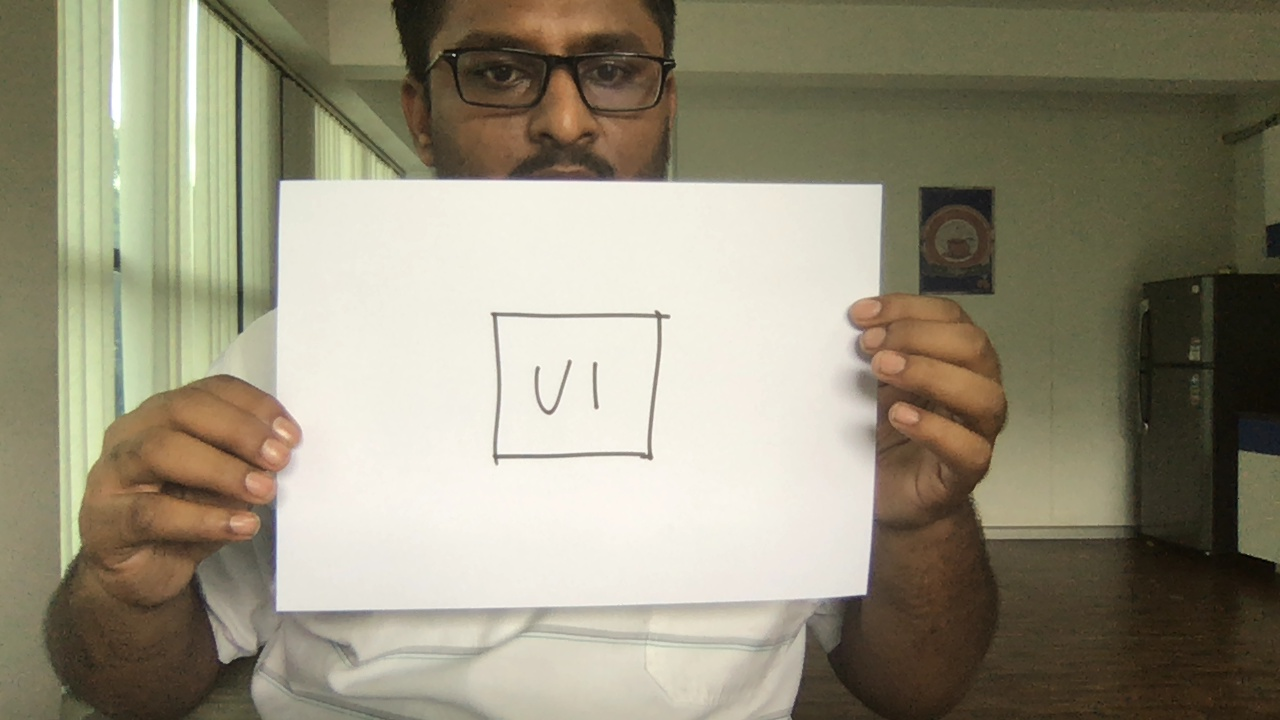ui: (484, 305, 668, 470)
